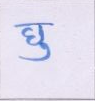u_matra: (18, 47, 54, 63)
